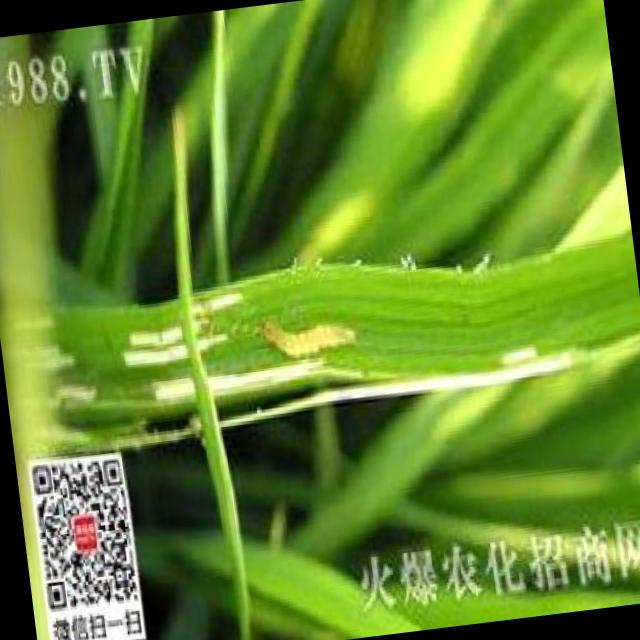leaf-folder: (235, 284, 362, 384)
